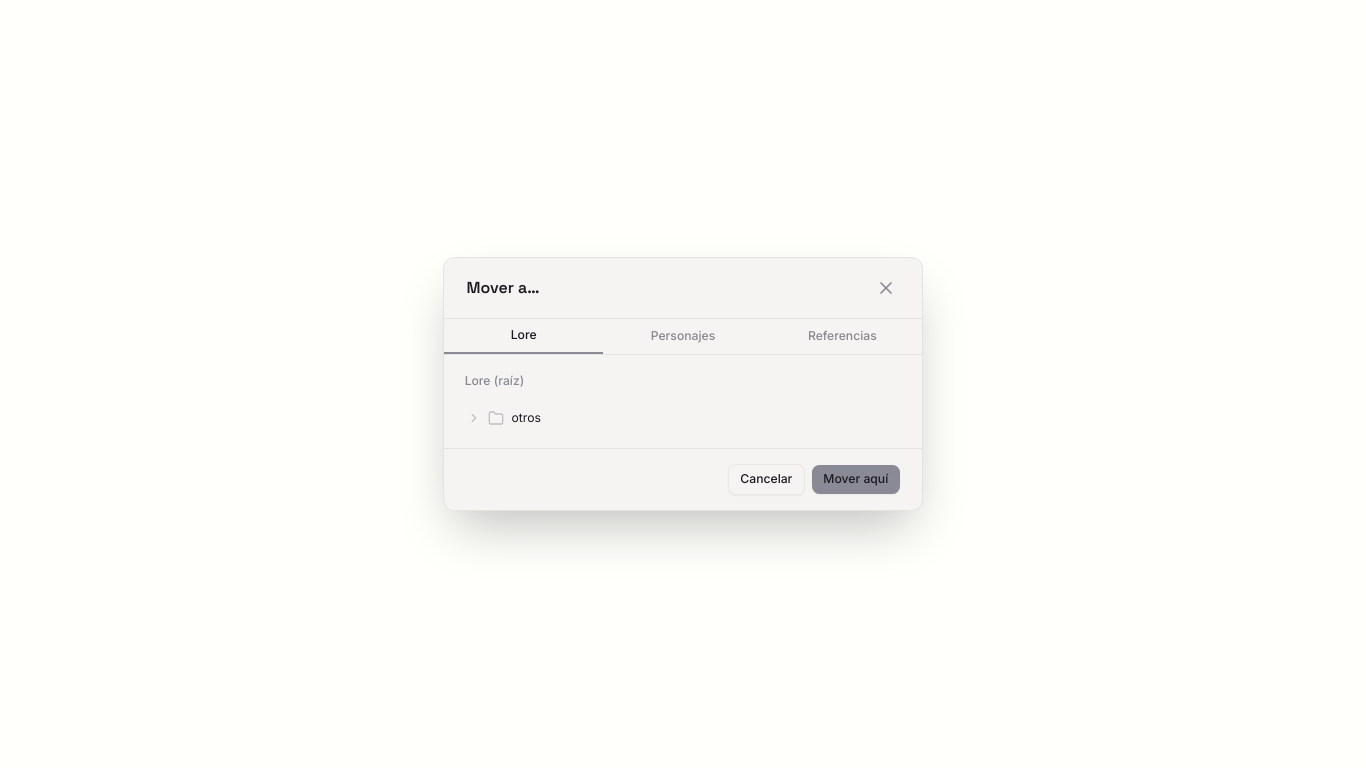
Test: MoveModal › excludes the source subtree in the source section
expect the button with aria-label "Seleccionar otros" is shown: met, box [459,403,907,433]
In another section the same-named folder IS a valid destination
Click the tab "Personajes" at (683, 336), box [603,319,763,354]
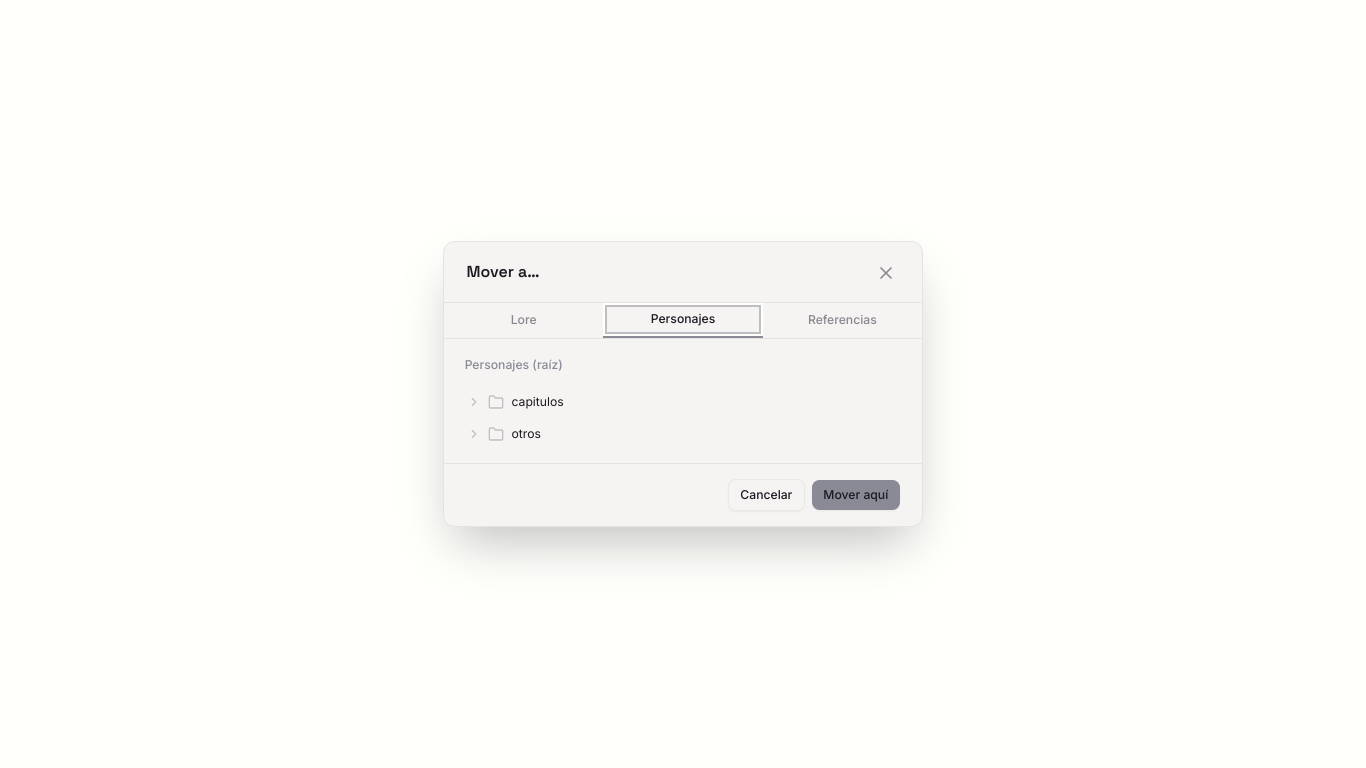
expect the button with aria-label "Seleccionar capitulos" is shown: met, box [459,388,907,417]
